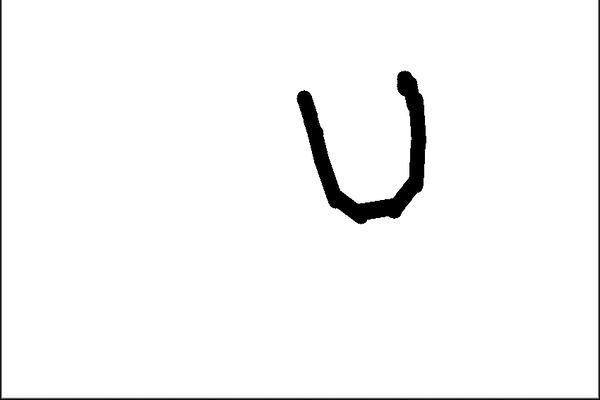U: (293, 54, 437, 228)
